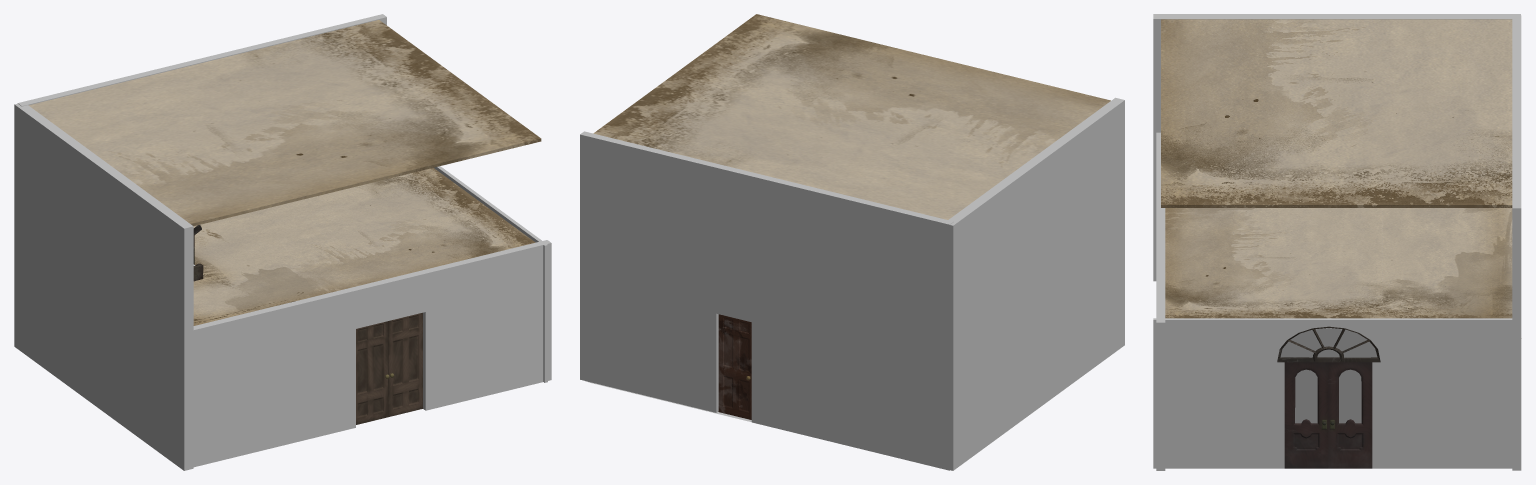
Rendered from FYP_foyer_spencer_02.fbx.
3 views of the same model, side by side, from view 1: azimuth 30°, elevation 25°; view 2: azimuth 150°, elevation 25°; view 3: azimuth 270°, elevation 25° (orthographic). The views are drawn at different scales.
Parts seen in each view (by area): view 1: ceiling_upper, wall_south, wall_east, ceiling, pasted__polySurface52, pasted__polySurface55, wall_west, wall_north; view 2: wall_west, ceiling_upper, wall_south, door; view 3: ceiling_upper, wall_north, ceiling, wall_west, polySurface21, polySurface18, wall_south, wall_east, polySurface33, polySurface34, polySurface20, polySurface19.
Part boxes in pixels (x1,y1,x2,y2): ceiling_upper: [29, 20, 541, 226]; wall_south: [14, 103, 193, 470]; wall_east: [193, 240, 551, 467]; ceiling: [193, 168, 535, 325]; pasted__polySurface52: [388, 312, 422, 417]; pasted__polySurface55: [356, 321, 387, 424]; wall_west: [17, 14, 386, 106]; wall_north: [434, 166, 547, 382]; wall_west: [580, 131, 953, 470]; ceiling_upper: [593, 14, 1110, 219]; wall_south: [948, 97, 1124, 470]; door: [718, 314, 751, 419]; ceiling_upper: [1161, 19, 1512, 207]; wall_north: [1153, 318, 1512, 468]; ceiling: [1165, 208, 1512, 318]; wall_west: [1512, 15, 1521, 470]; polySurface21: [1284, 362, 1328, 468]; polySurface18: [1328, 362, 1372, 468]; wall_south: [1153, 14, 1520, 281]; wall_east: [1156, 132, 1165, 470]; polySurface33: [1280, 328, 1377, 357]; polySurface34: [1277, 326, 1380, 362]; polySurface20: [1295, 369, 1317, 423]; polySurface19: [1339, 369, 1361, 423].
Size of the model in its own units: 316 by 200 by 252.
